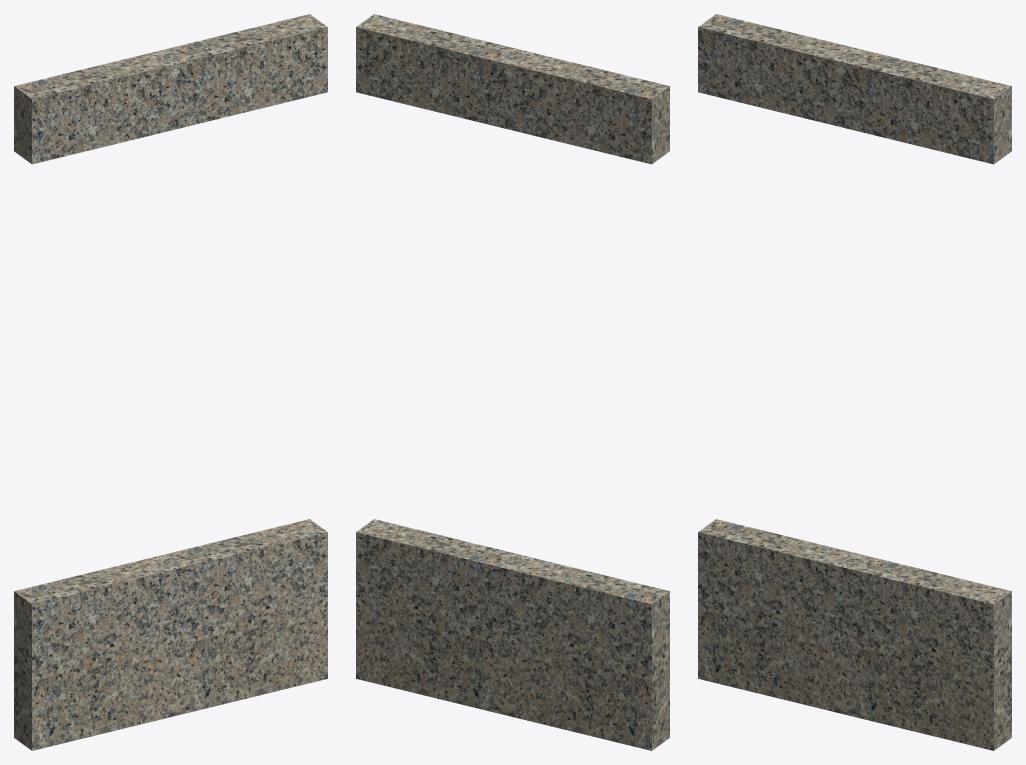
Rendered from Lobby_Wall_02.obj.
3 renders of one model, left to right at view 1: azimuth 30°, elevation 25°; view 2: azimuth 150°, elevation 25°; view 3: azimuth 330°, elevation 25°, orthographic.
Visible parts, largest first — view 1: Lobby_Wall_02; view 2: Lobby_Wall_02; view 3: Lobby_Wall_02.
Boxes of the visible parts, x1,y1,x2,y2 form: Lobby_Wall_02: (14, 14, 327, 750); Lobby_Wall_02: (356, 14, 669, 750); Lobby_Wall_02: (698, 14, 1011, 750).
Bounding box in the file's own units: 1.9 × 4 × 0.2.
Materials: 1 (1 with a texture image).
